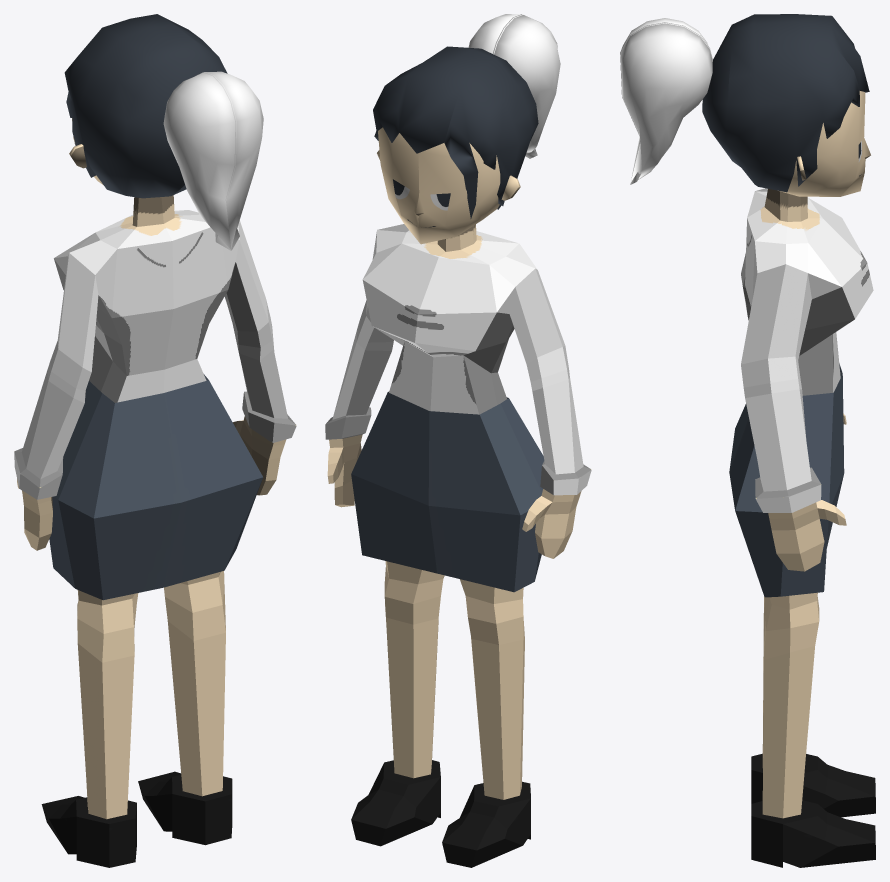
Rendered from F PONYTAIL HIGH.glb.
The picture shows the model from 3 angles, left to right: view 1: azimuth 30°, elevation 25°; view 2: azimuth 150°, elevation 25°; view 3: azimuth 270°, elevation 25°; orthographic projection. The views are drawn at different scales.
Visible parts, largest first — view 1: WOMEN OFFICE, PONYTAIL HIGH; view 2: WOMEN OFFICE, PONYTAIL HIGH, WOMEN HEAD; view 3: WOMEN OFFICE, PONYTAIL HIGH, WOMEN HEAD.
Part boxes in pixels (x1,y1,x2,y2): WOMEN OFFICE: [14, 195, 296, 867]; PONYTAIL HIGH: [64, 14, 263, 250]; WOMEN OFFICE: [325, 224, 591, 867]; PONYTAIL HIGH: [373, 14, 560, 218]; WOMEN HEAD: [378, 127, 500, 244]; WOMEN OFFICE: [729, 188, 875, 867]; PONYTAIL HIGH: [620, 14, 869, 192]; WOMEN HEAD: [778, 91, 870, 196].
Bounding box in the file's own units: 3.07 × 9.04 × 2.59.
5 materials, 4 textured.
